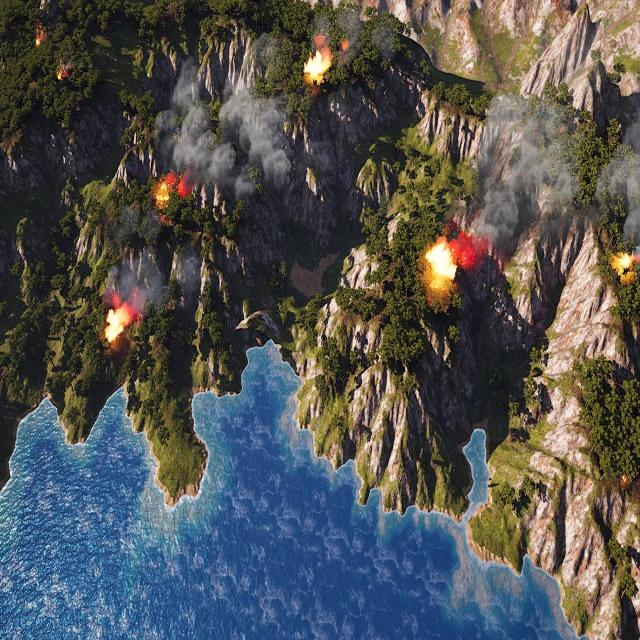fire: (425, 236, 457, 286), (102, 302, 132, 345), (305, 51, 331, 83), (156, 176, 172, 202), (616, 256, 636, 273), (34, 28, 45, 50), (58, 67, 69, 81)
smoke: (452, 83, 640, 254), (152, 44, 290, 200), (113, 247, 203, 314), (312, 6, 388, 62)
